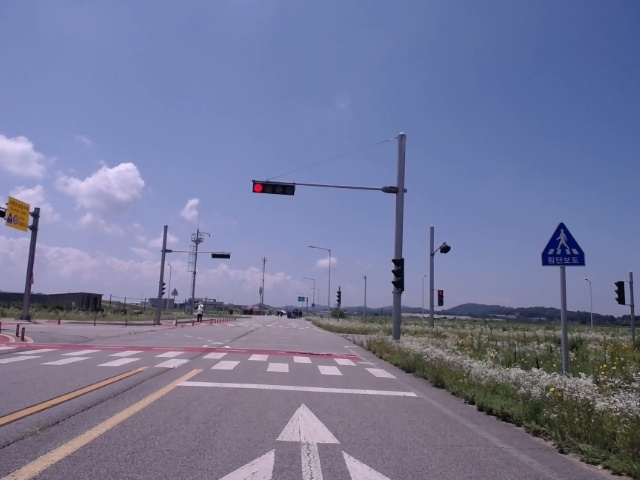red_4: (253, 182, 294, 195)
